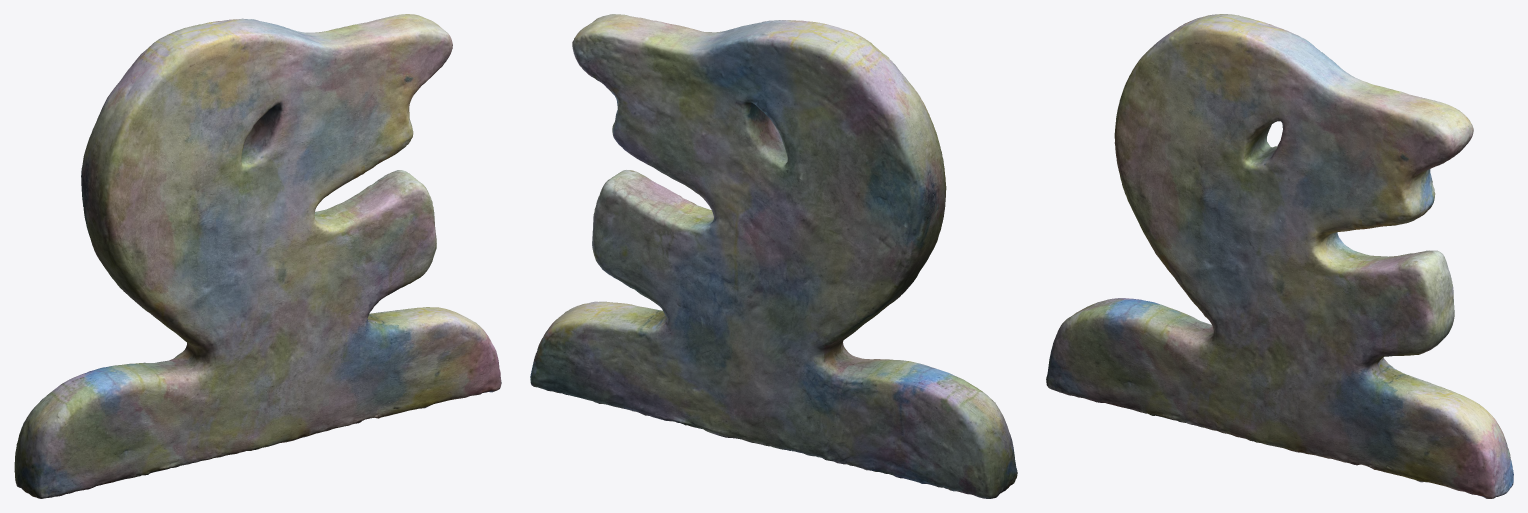
The model's file is rainbow.glb.
3 views of the same model, side by side, from view 1: azimuth 30°, elevation 25°; view 2: azimuth 150°, elevation 25°; view 3: azimuth 330°, elevation 25° (orthographic). The views are drawn at different scales.
Visible parts, largest first — view 1: model; view 2: model; view 3: model.
Part boxes in pixels (bbox=[...]): model: bbox=[14, 14, 501, 498]; model: bbox=[530, 14, 1017, 498]; model: bbox=[1046, 14, 1513, 498].
Bounding box in the file's own units: 1.06 × 0.9077 × 0.124.
1 material, 1 textured.
